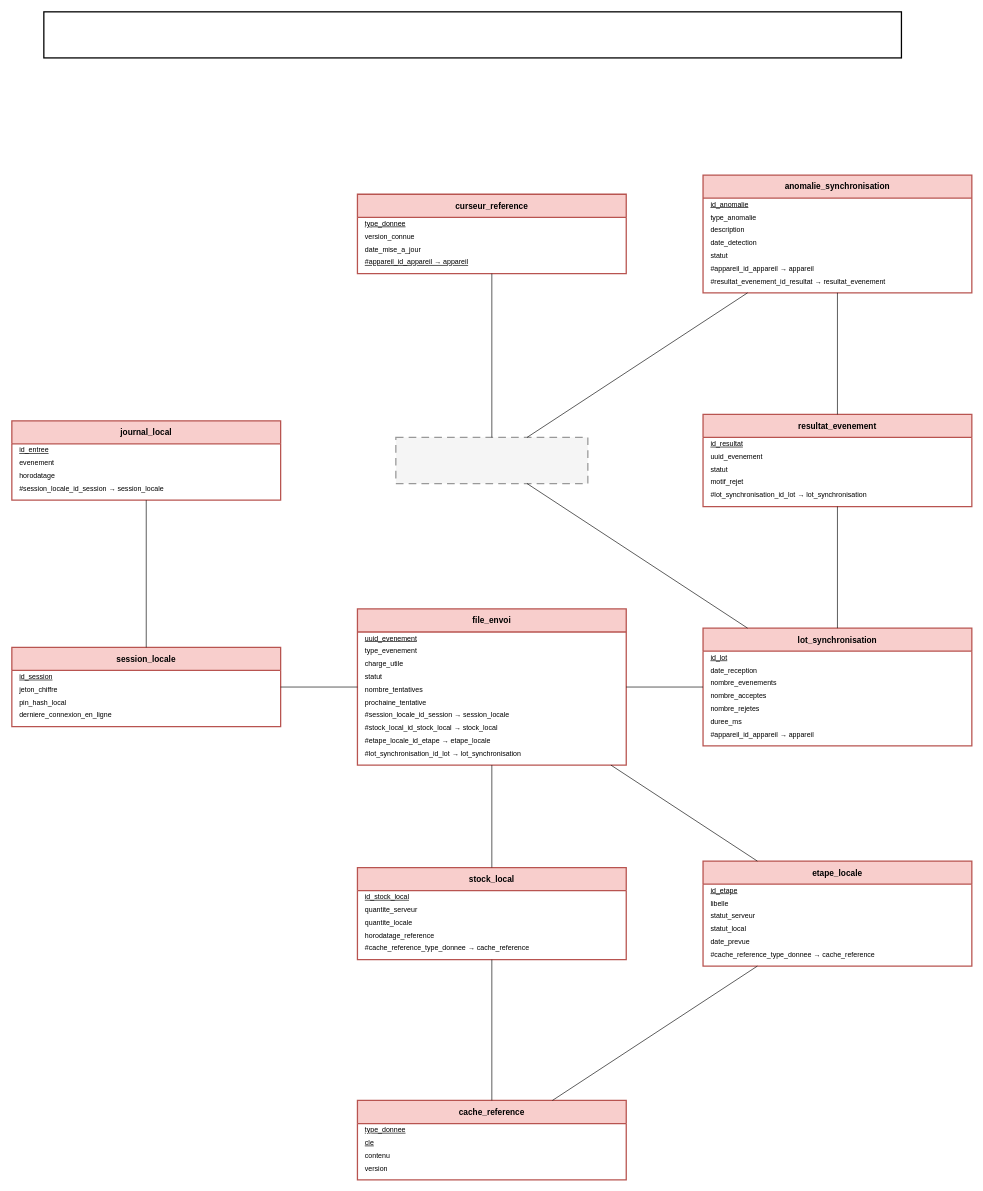
Some shapes in this 983 by 1191 pixel diagram are drawn without their labels. The shapes that lost their labels are listed below. From the top down, each one's centre as x and y in pixels, then its label:
At pixel 472 34: "MLD-6 — Synchronisation et modele local — 10 relations, 12 clés étrangères".
At pixel 491 460: "appareil (voir MLD-1)".
